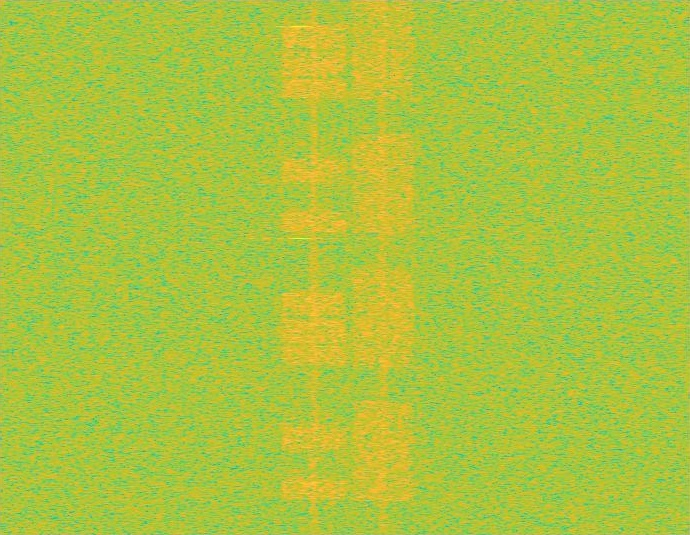5G: (349, 0, 418, 534)
DSSS: (309, 0, 319, 534), (378, 0, 388, 534)
LTE: (280, 0, 349, 534)
Radar: (293, 0, 307, 534)
